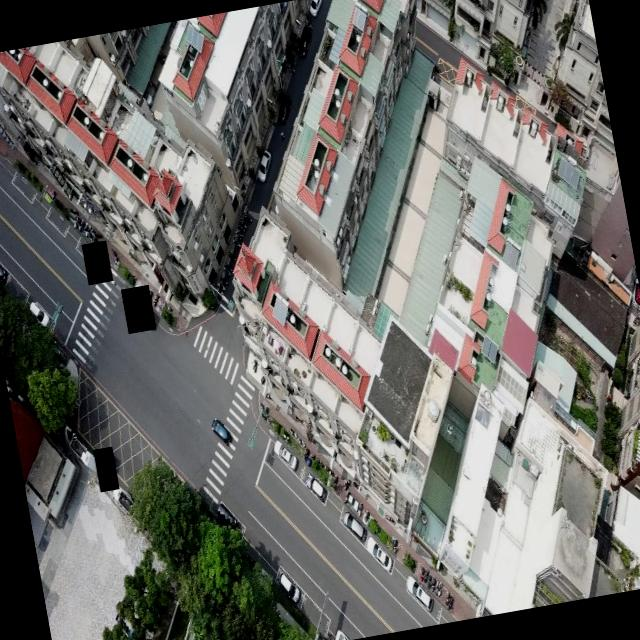bike: (151, 291, 161, 307), (392, 536, 401, 552), (72, 214, 82, 228), (80, 220, 90, 234), (446, 595, 456, 609), (330, 474, 340, 488), (228, 251, 238, 265), (443, 590, 452, 604), (83, 224, 93, 236), (436, 580, 444, 595), (342, 490, 352, 502), (232, 237, 242, 249), (242, 212, 252, 224), (76, 217, 85, 230), (425, 573, 434, 586), (430, 576, 438, 590), (68, 206, 79, 216), (217, 280, 226, 292), (422, 568, 430, 580), (356, 502, 364, 514), (278, 129, 286, 141), (343, 480, 351, 490), (225, 262, 233, 272), (220, 276, 228, 286), (235, 230, 243, 240), (238, 223, 245, 233), (240, 218, 246, 228)
car: (403, 570, 432, 612), (277, 564, 303, 604), (341, 508, 368, 544), (274, 435, 300, 472), (369, 538, 395, 574), (304, 471, 330, 506), (293, 24, 316, 61), (253, 149, 275, 182), (212, 416, 235, 447), (28, 298, 50, 328), (274, 94, 296, 124), (0, 252, 9, 286), (305, 0, 324, 16), (331, 627, 350, 640)
